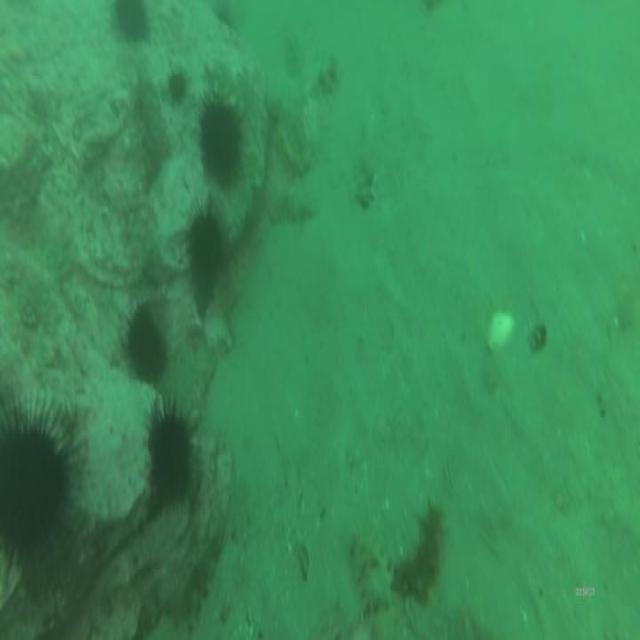echinus: (0, 393, 77, 572), (144, 400, 197, 509), (195, 94, 246, 186), (183, 196, 228, 281), (125, 310, 172, 384), (108, 0, 151, 47), (166, 66, 188, 110)
holothurian: (105, 492, 195, 602), (346, 526, 421, 640), (390, 498, 451, 607), (266, 104, 314, 179), (263, 185, 320, 232), (279, 25, 308, 81)
scallop: (484, 305, 516, 354)
